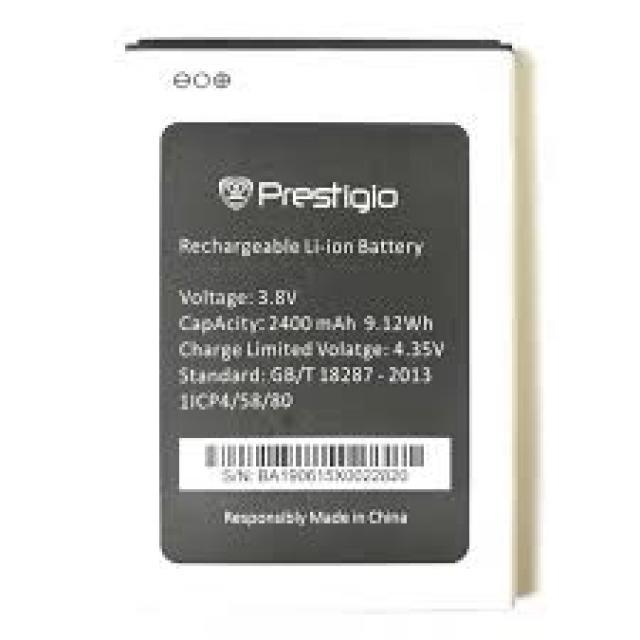battery: (121, 38, 513, 615)
